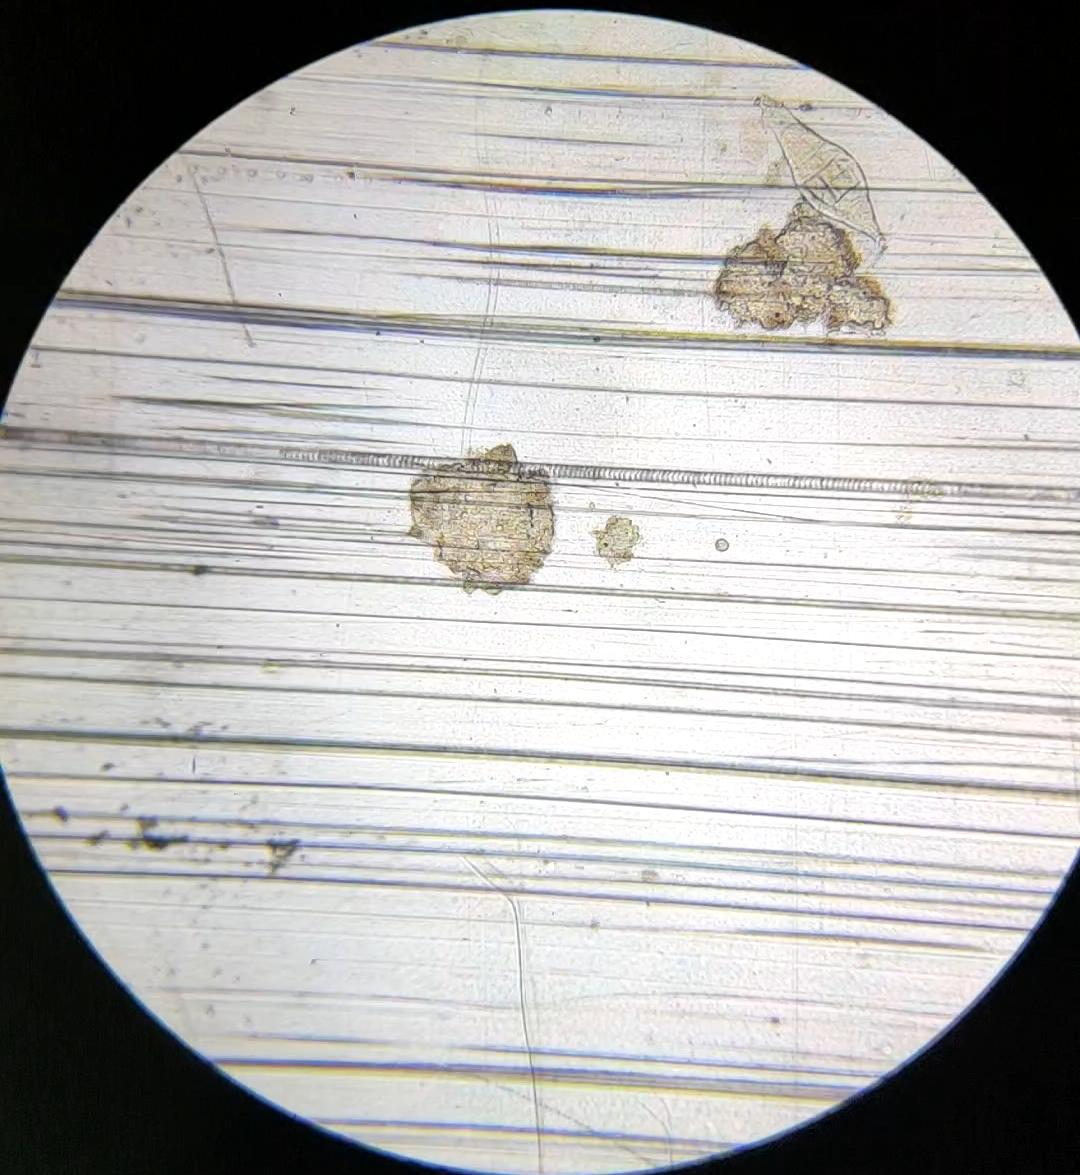Do: (754, 96, 889, 250)
